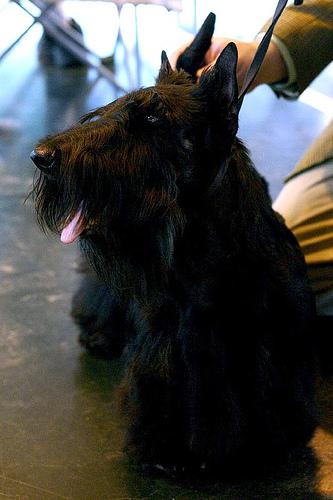dog: (28, 11, 237, 242)
